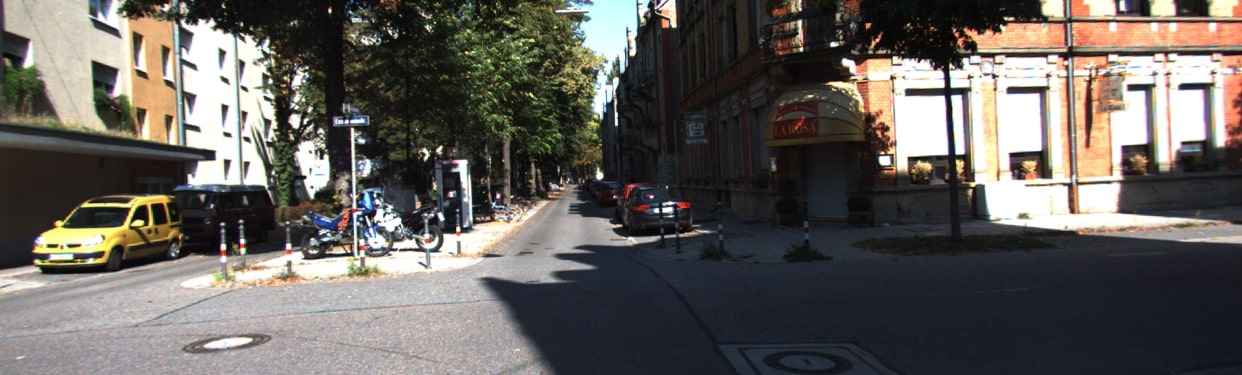car: (29, 184, 183, 279), (624, 188, 700, 231)
